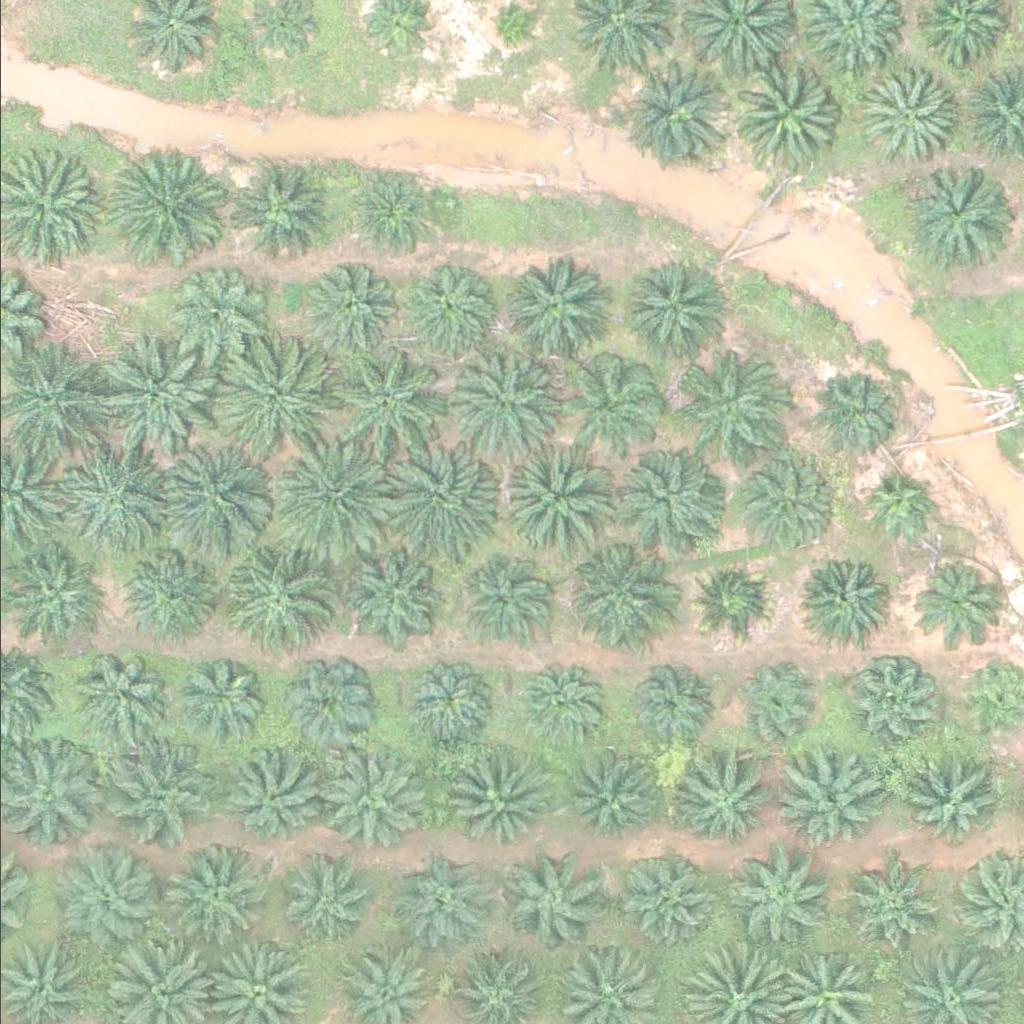Kelapa_Sawit: (112, 152, 226, 265), (48, 836, 161, 949), (96, 336, 209, 449), (275, 445, 388, 558), (386, 445, 499, 558), (504, 444, 617, 557), (619, 445, 732, 558), (444, 342, 557, 455), (215, 344, 328, 457), (154, 837, 268, 949), (57, 441, 171, 553), (313, 746, 427, 858), (160, 449, 274, 561), (105, 740, 218, 852), (560, 541, 673, 653), (210, 543, 323, 655), (330, 349, 443, 461), (727, 57, 840, 169), (619, 54, 732, 166), (720, 845, 821, 945), (610, 847, 711, 947), (266, 852, 367, 952), (674, 752, 775, 852), (274, 652, 375, 752), (334, 544, 435, 644), (674, 346, 775, 446), (562, 352, 663, 452), (408, 258, 509, 358), (500, 258, 601, 358), (626, 264, 727, 364), (228, 160, 329, 260), (902, 161, 1003, 261), (853, 68, 954, 168), (501, 850, 601, 950), (377, 850, 477, 950), (894, 751, 994, 851), (778, 754, 878, 854), (441, 755, 541, 855), (220, 748, 320, 848), (396, 653, 496, 753), (740, 453, 840, 553), (166, 265, 266, 365), (307, 261, 407, 361), (75, 650, 163, 738), (121, 547, 209, 635), (836, 867, 924, 955), (570, 754, 658, 842), (178, 653, 266, 741), (731, 659, 819, 747), (619, 660, 707, 748), (514, 660, 602, 748), (811, 368, 899, 456), (848, 657, 936, 744), (907, 559, 995, 646), (802, 555, 890, 642), (684, 555, 772, 642), (463, 552, 551, 639), (353, 167, 441, 254), (857, 471, 933, 546)
